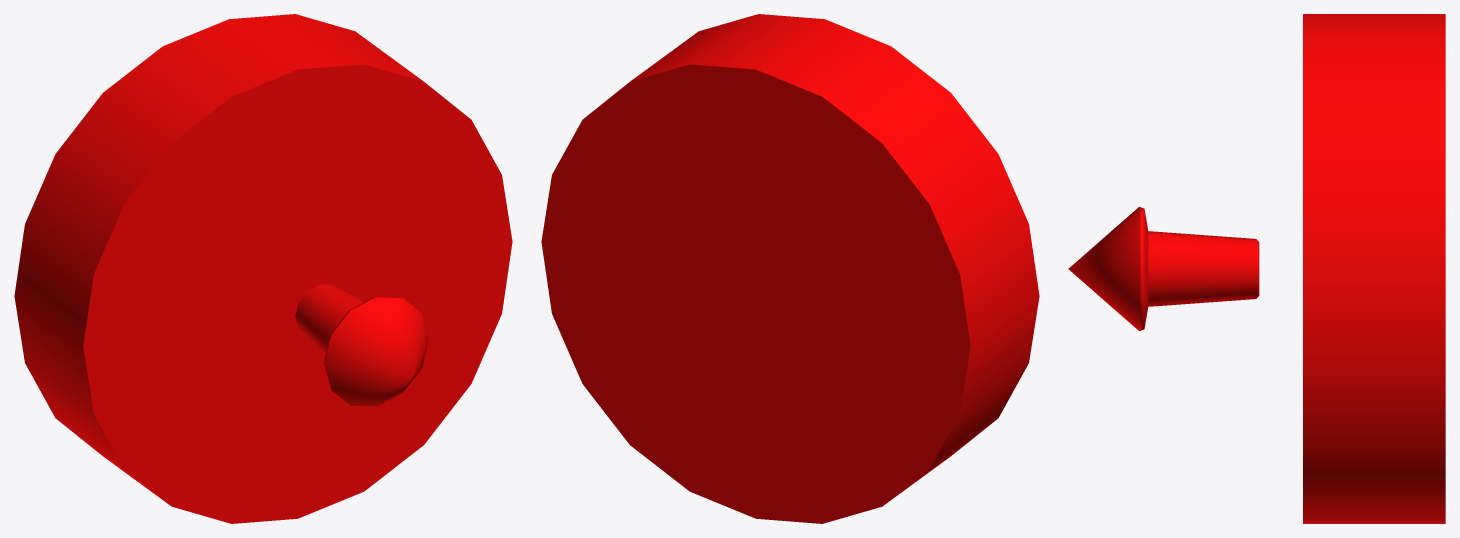
Rendered from Gizmo_Booster_Pad_C_Vertical_Collider_Compound.glb.
3 renders of one model, left to right at view 1: azimuth 30°, elevation 25°; view 2: azimuth 150°, elevation 25°; view 3: azimuth 270°, elevation 25°, orthographic. The views are drawn at different scales.
Parts seen in each view (by area): view 1: Gizmo_Booster_Pad_C_Vertical_Collider_ConvexHull, Gizmo_Booster_Pad_C_Vertical_Collider_Compound_2023_04_24_v0; view 2: Gizmo_Booster_Pad_C_Vertical_Collider_ConvexHull, Gizmo_Booster_Pad_C_Vertical_Collider_Compound_2023_04_24_v0; view 3: Gizmo_Booster_Pad_C_Vertical_Collider_Compound_2023_04_24_v0, Gizmo_Booster_Pad_C_Vertical_Collider_ConvexHull.
Part boxes in pixels (x1,y1,x2,y2): Gizmo_Booster_Pad_C_Vertical_Collider_ConvexHull: (25, 14, 512, 523); Gizmo_Booster_Pad_C_Vertical_Collider_Compound_2023_04_24_v0: (14, 14, 428, 504); Gizmo_Booster_Pad_C_Vertical_Collider_ConvexHull: (541, 14, 1028, 523); Gizmo_Booster_Pad_C_Vertical_Collider_Compound_2023_04_24_v0: (553, 14, 1039, 504); Gizmo_Booster_Pad_C_Vertical_Collider_Compound_2023_04_24_v0: (1068, 14, 1445, 523); Gizmo_Booster_Pad_C_Vertical_Collider_ConvexHull: (1303, 79, 1445, 523).
Size of the model in its own units: 2.88 by 2.88 by 2.12.
